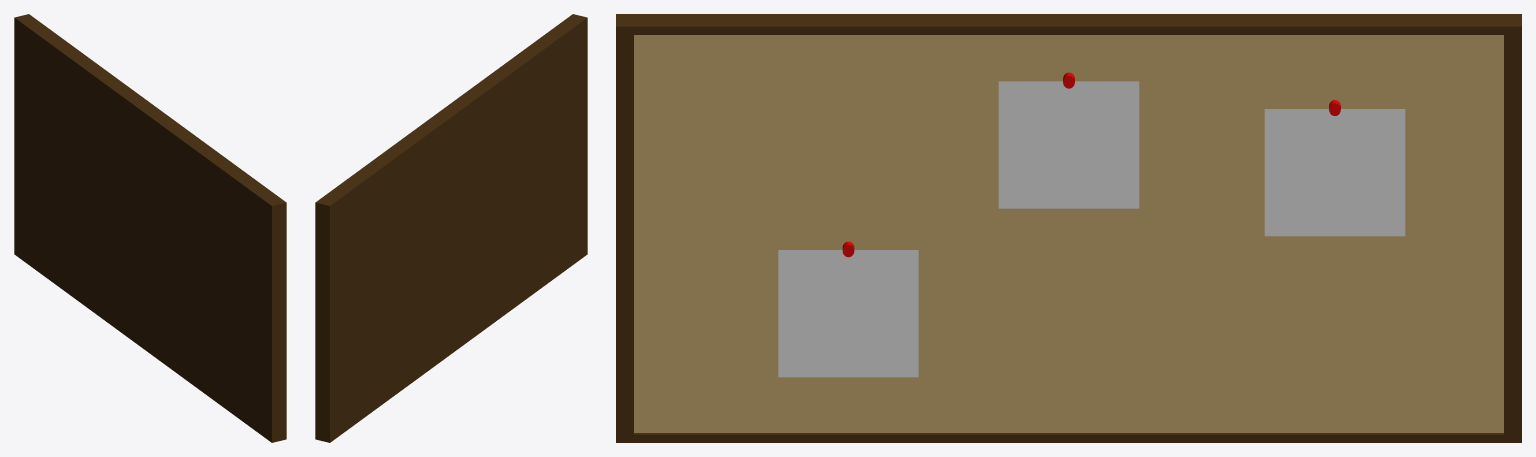
The model's file is BulletinBoard.glb.
The picture shows the model from 3 angles, left to right: view 1: azimuth 30°, elevation 25°; view 2: azimuth 150°, elevation 25°; view 3: azimuth 270°, elevation 25°; orthographic projection. The views are drawn at different scales.
Parts seen in each view (by area): view 1: Cube; view 2: Cube; view 3: Cube, Plane.001, Plane, Plane.002.
Part boxes in pixels (left/top/right/bottom): Cube: left=14, top=14, right=286, bottom=442; Cube: left=315, top=14, right=587, bottom=442; Cube: left=616, top=14, right=1521, bottom=442; Plane.001: left=1264, top=109, right=1405, bottom=236; Plane: left=998, top=81, right=1139, bottom=208; Plane.002: left=778, top=250, right=918, bottom=377.
Size of the model in its own units: 0.0481 by 0.6543 by 1.29.
